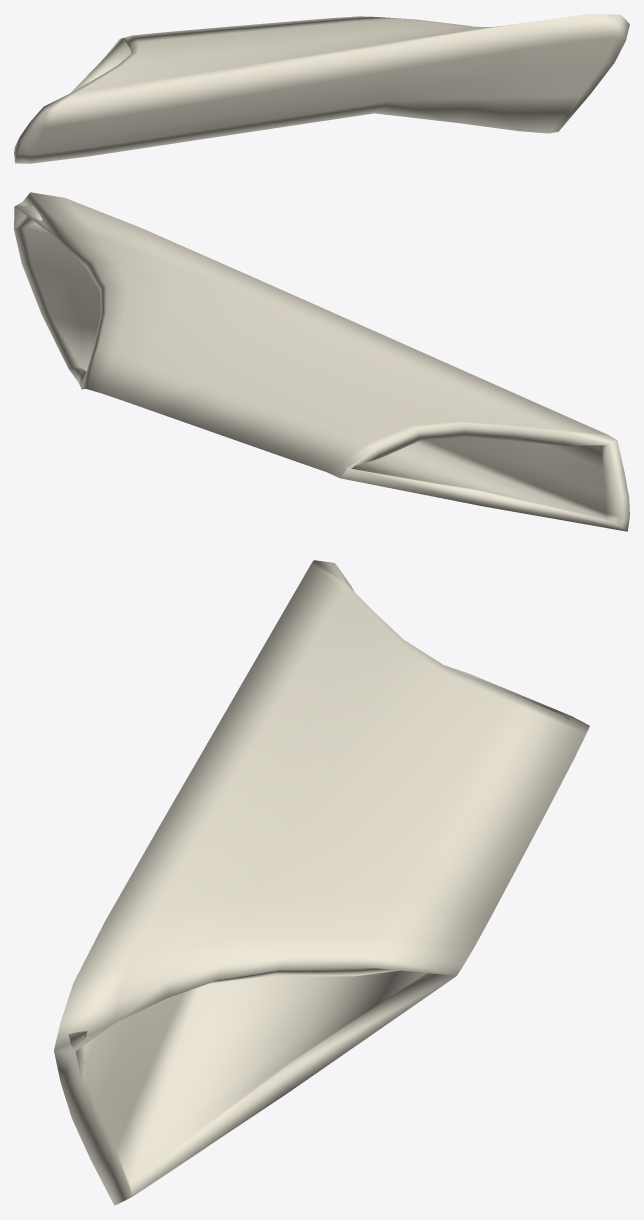
3 renders of one model, top to bottom at view 1: azimuth 30°, elevation 25°; view 2: azimuth 150°, elevation 25°; view 3: azimuth 270°, elevation 25°, orthographic. The views are drawn at different scales.
Parts seen in each view (by area): view 1: ZA_9f2a0220b764cdd9; view 2: ZA_9f2a0220b764cdd9; view 3: ZA_9f2a0220b764cdd9.
Boxes of the visible parts, x1=… form: ZA_9f2a0220b764cdd9: x1=14, y1=14, x2=629, y2=163; ZA_9f2a0220b764cdd9: x1=14, y1=192, x2=629, y2=531; ZA_9f2a0220b764cdd9: x1=54, y1=560, x2=589, y2=1205.
Bounding box in the file's own units: 0.0285 × 0.00612 × 0.0123.
